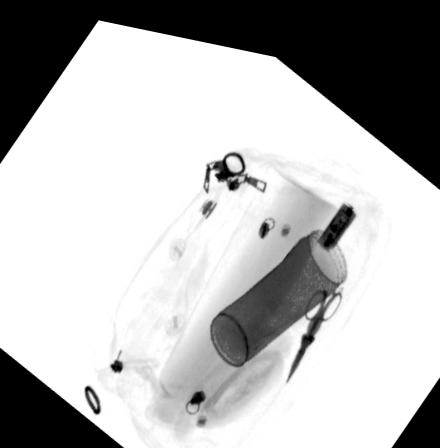Scissors: (283, 273, 343, 373)
